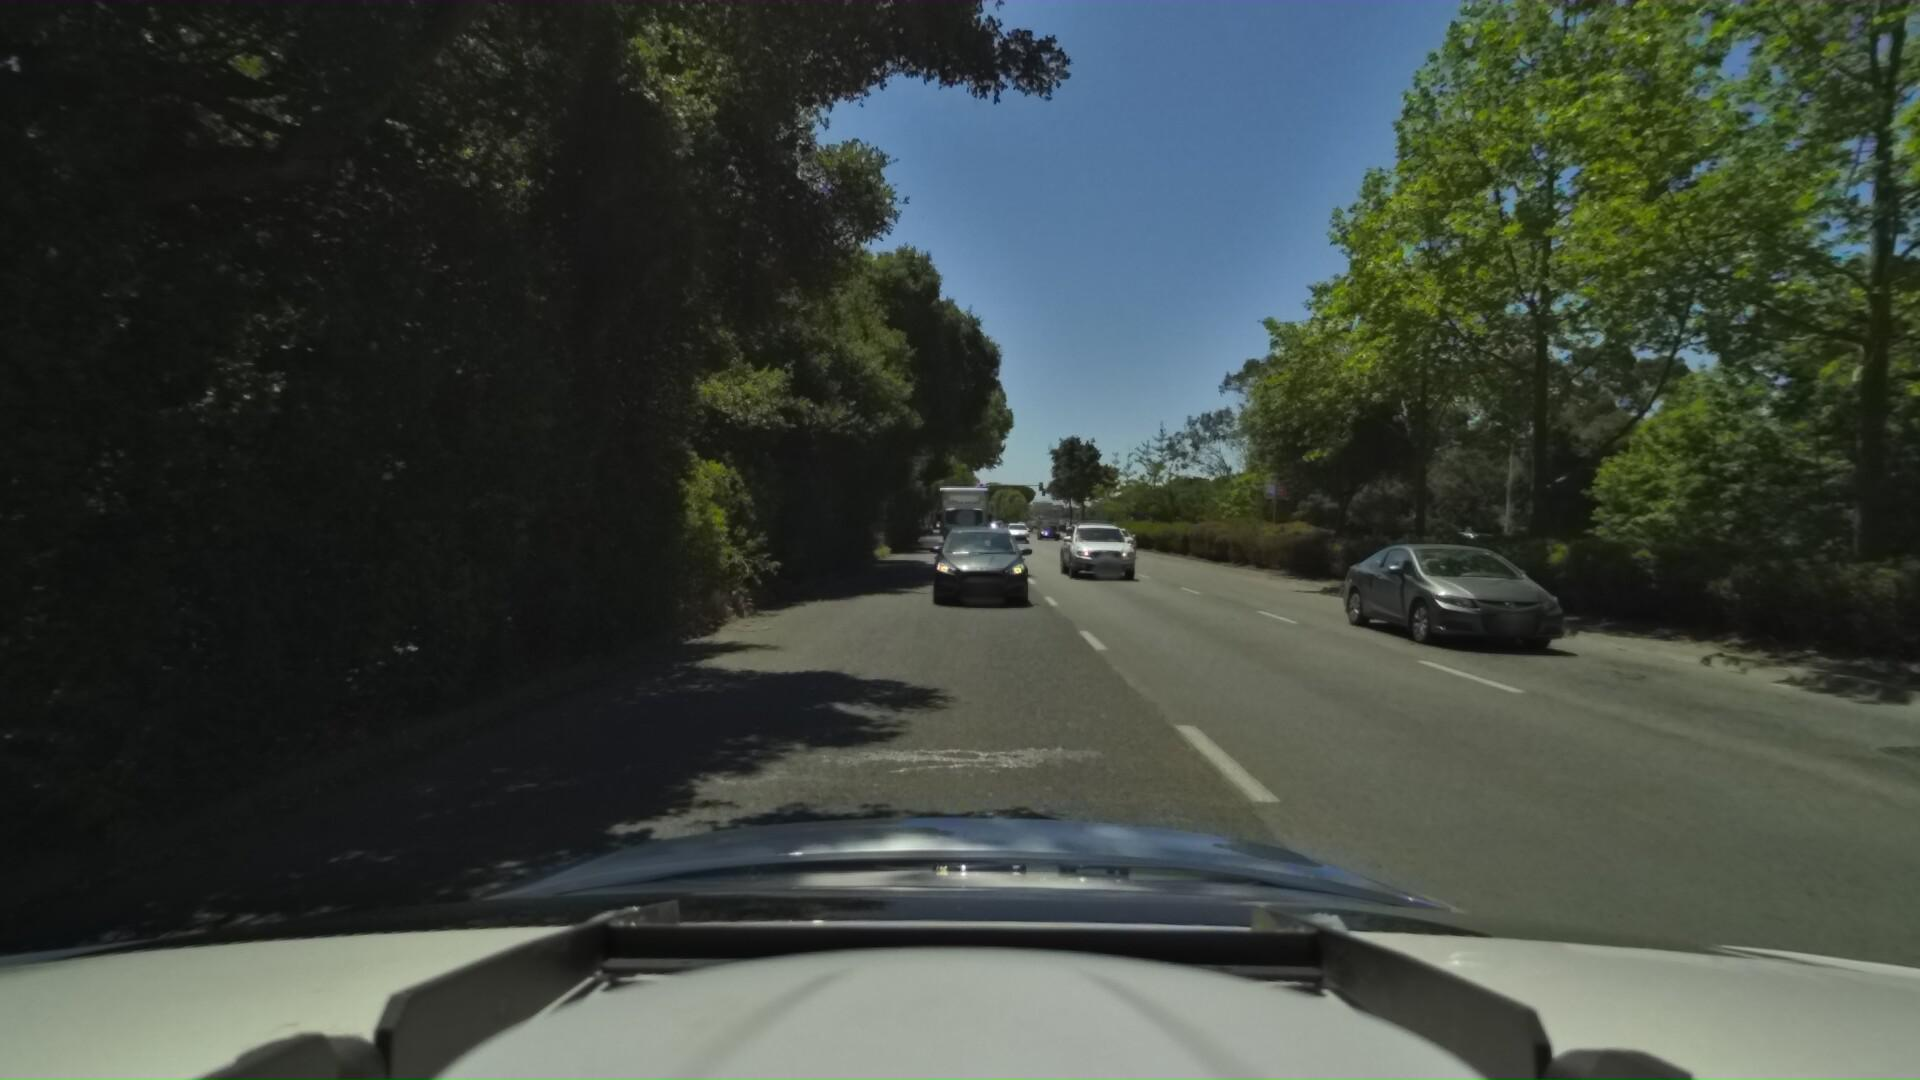car: (1305, 531, 1532, 646), (926, 521, 1030, 611), (1051, 516, 1130, 578), (1095, 518, 1147, 551), (1002, 520, 1031, 545)
truck: (930, 472, 990, 545)
